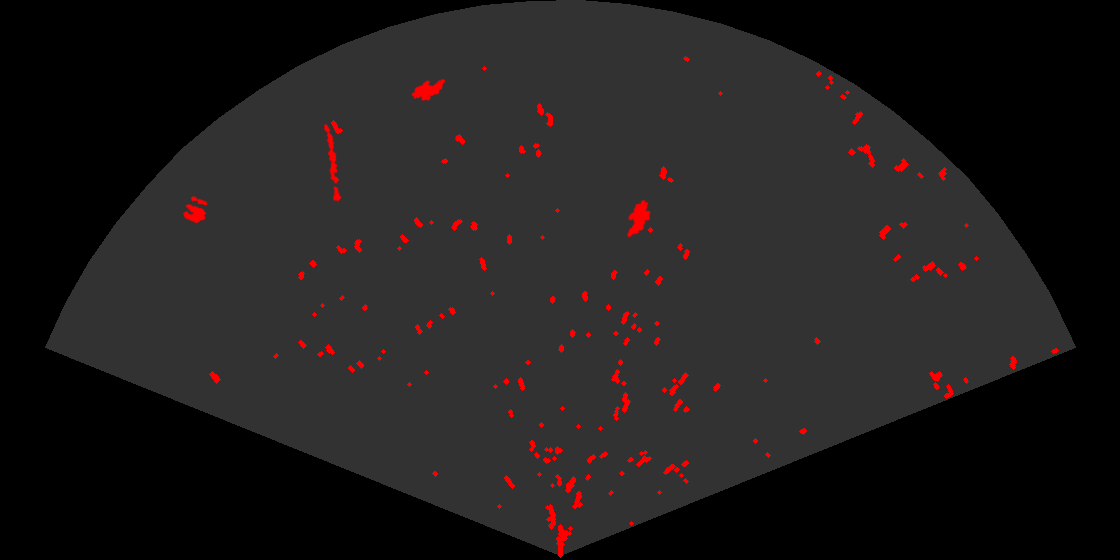AUV: (625, 198, 652, 239), (410, 77, 447, 103)
ball: (181, 195, 209, 225)
chain: (322, 122, 343, 203)
